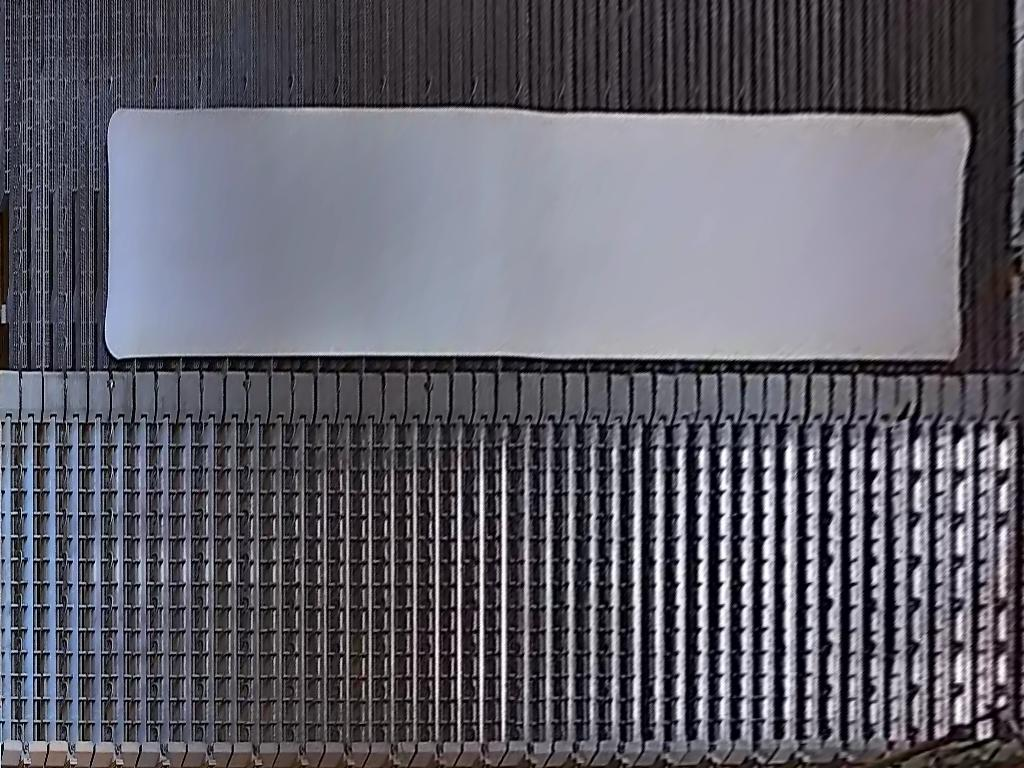steel: (98, 108, 973, 361)
